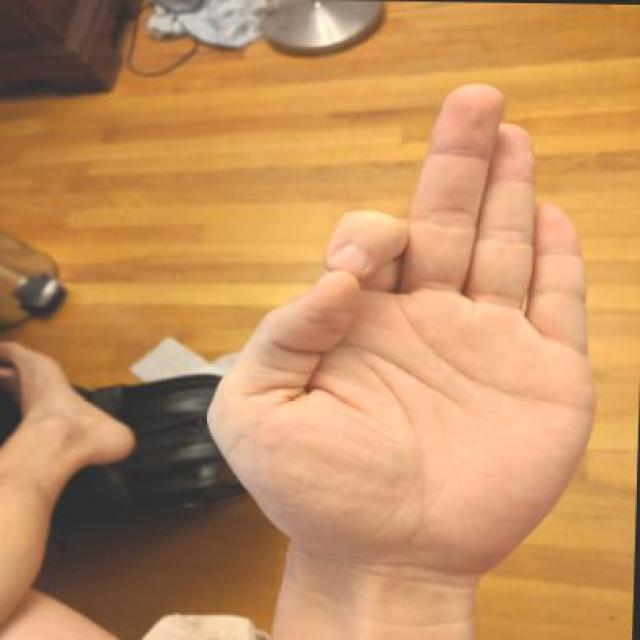F: (197, 71, 605, 601)
